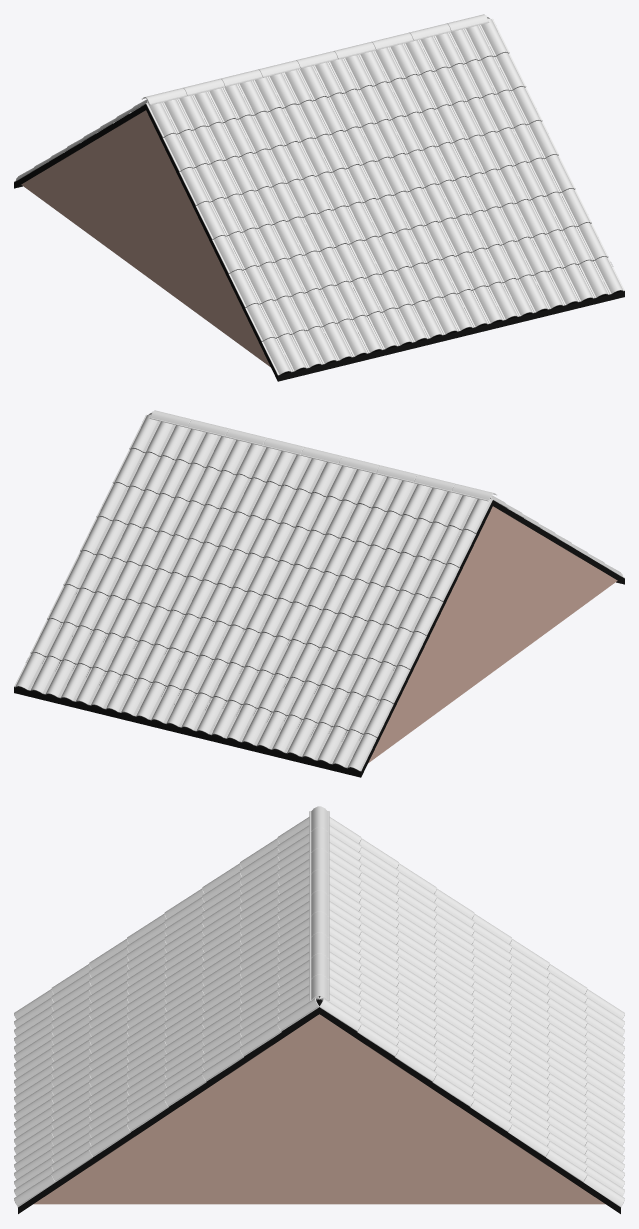
File: Building_Roof.fbx
3 renders of one model, top to bottom at view 1: azimuth 30°, elevation 25°; view 2: azimuth 150°, elevation 25°; view 3: azimuth 270°, elevation 25°, orthographic. The views are drawn at different scales.
Visible parts, largest first — view 1: Building_Roof; view 2: Building_Roof; view 3: Building_Roof.
Part boxes in pixels (x1,y1,x2,y2): Building_Roof: [14, 14, 624, 381]; Building_Roof: [14, 410, 624, 777]; Building_Roof: [14, 806, 624, 1213].
Size of the model in its own units: 6.02 by 3.11 by 8.03.
